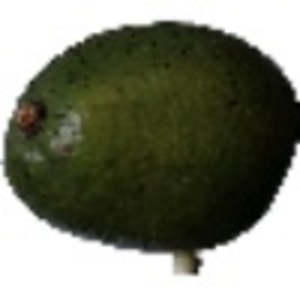abacate: (3, 22, 296, 249)
